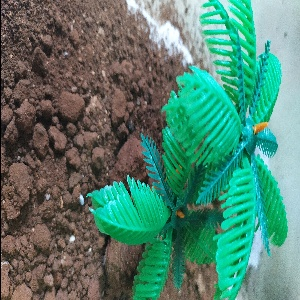plant: (88, 2, 289, 300)
